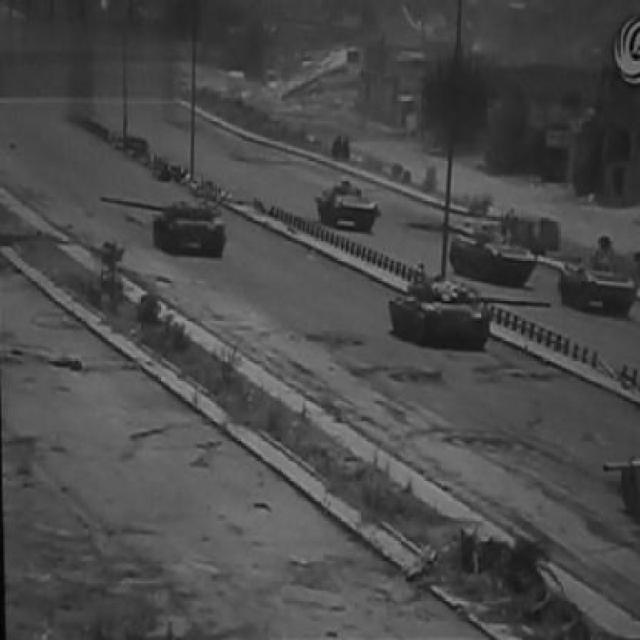Tank: (387, 266, 566, 365), (98, 187, 236, 273), (438, 199, 555, 293), (553, 226, 640, 332), (311, 170, 385, 243), (596, 451, 640, 536)
